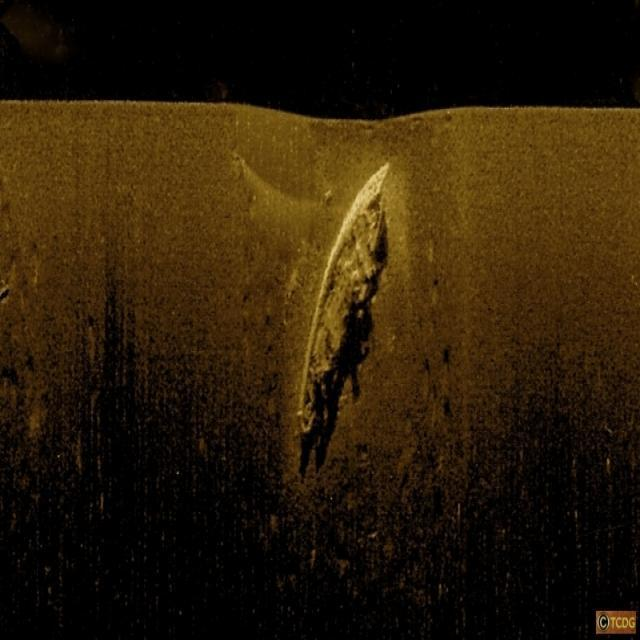shipwreck: (297, 160, 393, 438)
